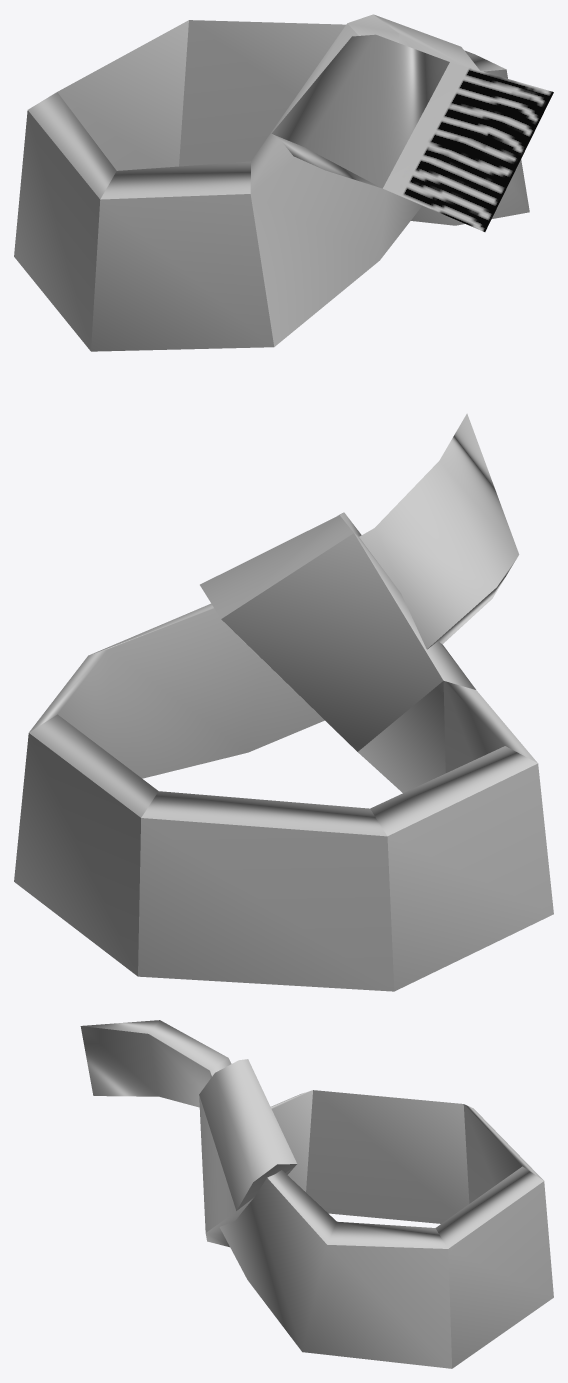
Rendered from Item12.obj.
3 renders of one model, top to bottom at view 1: azimuth 30°, elevation 25°; view 2: azimuth 150°, elevation 25°; view 3: azimuth 270°, elevation 25°, orthographic. The views are drawn at different scales.
Parts seen in each view (by area): view 1: 0; view 2: 0; view 3: 0.
Boxes of the visible parts, x1,y1,x2,y2 form: 0: (14, 14, 553, 351); 0: (14, 413, 553, 991); 0: (80, 1020, 553, 1368).
Bounding box in the file's own units: 13.99 × 10.13 × 18.8.
